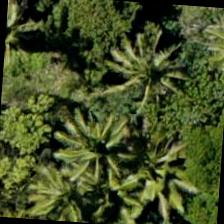Kelapa_Sawit: (97, 18, 194, 114), (48, 97, 144, 193), (103, 128, 200, 223), (16, 144, 110, 224)
